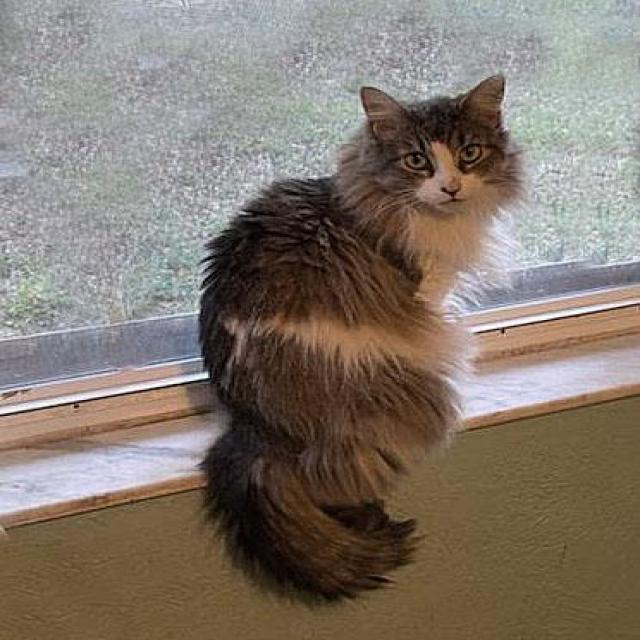maine_coon_cat: (328, 62, 528, 241)
